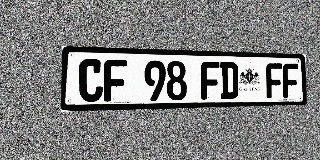8: (166, 61, 187, 100)
9: (144, 60, 166, 101)
C: (79, 59, 103, 102)
D: (220, 62, 238, 99)
F: (104, 59, 127, 102), (201, 61, 220, 100), (266, 63, 283, 98), (283, 63, 299, 98)
